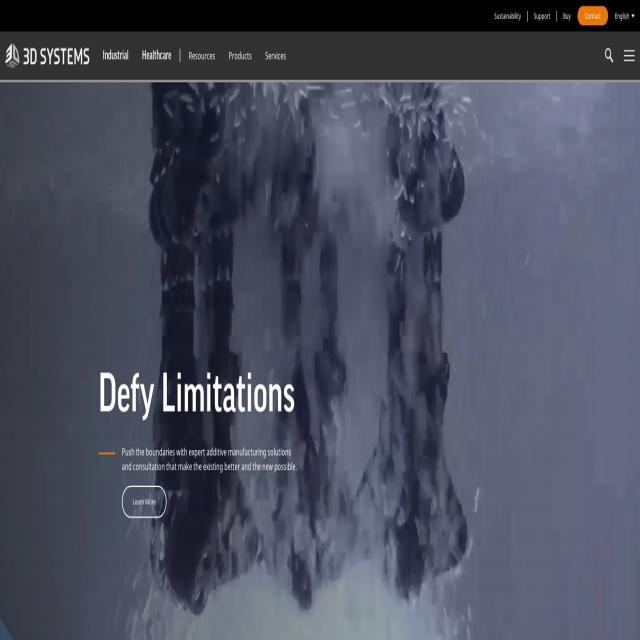button: (5, 44, 89, 67), (122, 486, 166, 518), (578, 6, 608, 26)
field: (602, 32, 616, 80)
